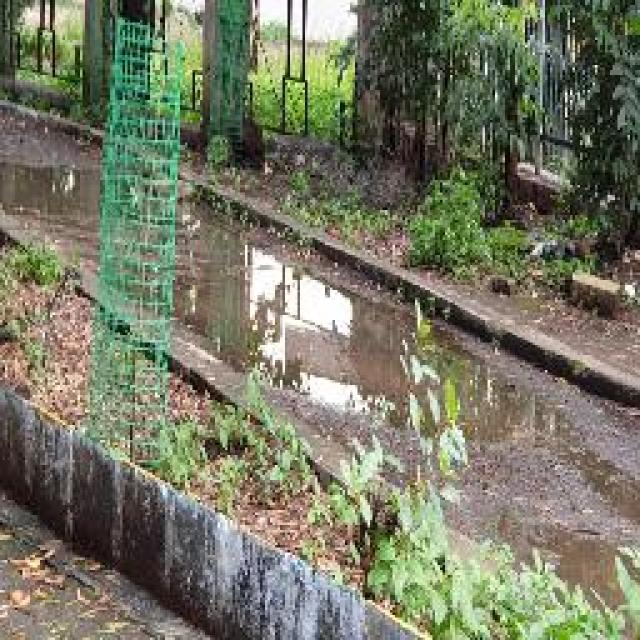puddle: (174, 217, 522, 448), (1, 161, 103, 223)
